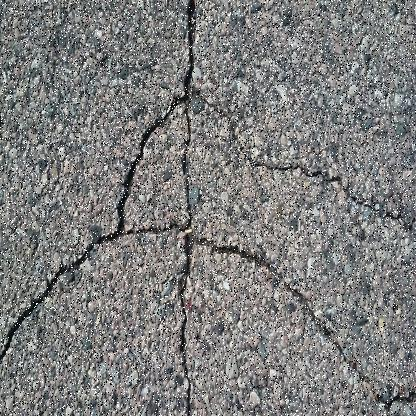Cracks: (0, 217, 415, 415), (116, 91, 416, 238), (171, 0, 207, 416)
